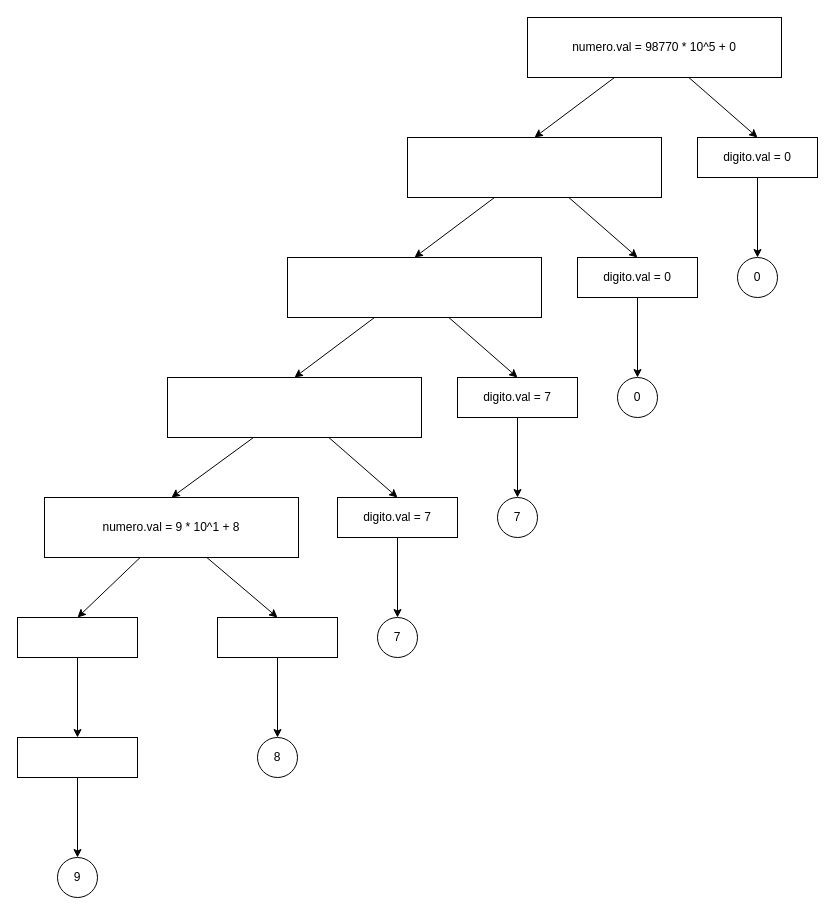
Image size: 835x915. Some labels were removed from this diagram. The shapes that lost their labels are listed below. From the top down, each one's centre as x and y in pixels, then its label:
(x=534, y=167): numero.val = 9877 * 10^4 + 0
(x=414, y=287): numero.val = 987 * 10^3 + 4
(x=294, y=407): numero.val = 98 * 10^2 + 7
(x=77, y=637): numero.val = 9
(x=277, y=637): digito.val = 8
(x=77, y=757): digito.val = 9
